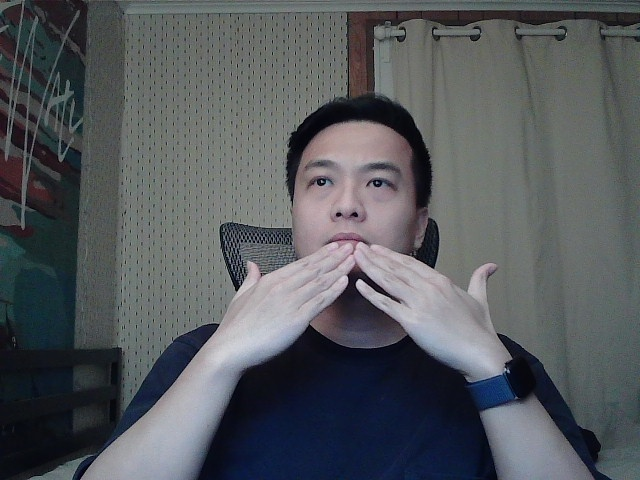Thank You: (213, 234, 516, 382)
